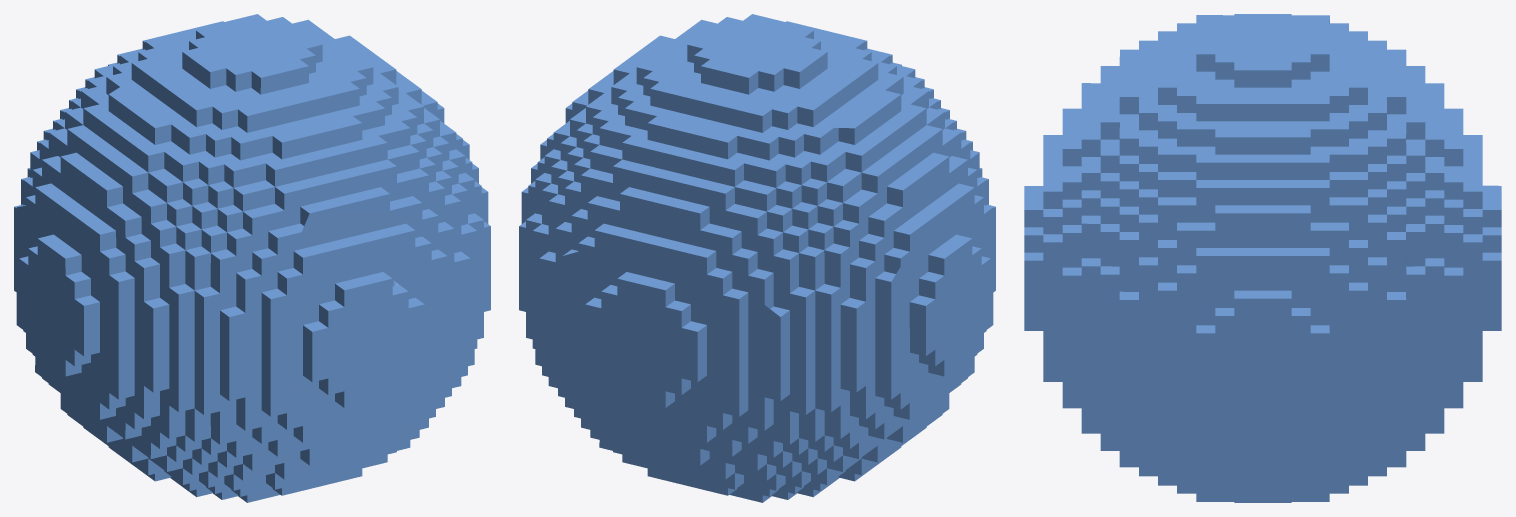
File: slime.glb
3 renders of one model, left to right at view 1: azimuth 30°, elevation 25°; view 2: azimuth 150°, elevation 25°; view 3: azimuth 270°, elevation 25°, orthographic. The views are drawn at different scales.
Parts seen in each view (by area): view 1: SM_SlimeBall_01; view 2: SM_SlimeBall_01; view 3: SM_SlimeBall_01.
Boxes of the visible parts, <box> form: SM_SlimeBall_01: <box>14,14,490,502</box>; SM_SlimeBall_01: <box>519,14,995,502</box>; SM_SlimeBall_01: <box>1024,14,1501,502</box>.
Size of the model in its own units: 2.5 by 2.5 by 2.5.
